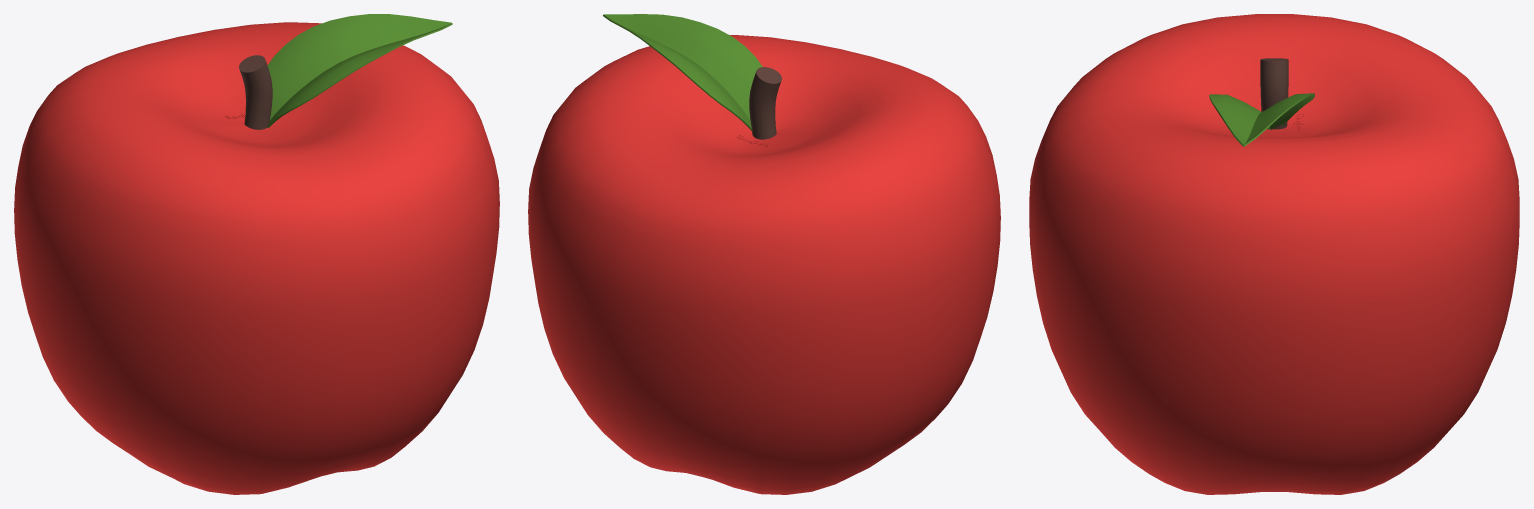
Rendered from red_apple.fbx.
The picture shows the model from 3 angles, left to right: view 1: azimuth 30°, elevation 25°; view 2: azimuth 150°, elevation 25°; view 3: azimuth 270°, elevation 25°; orthographic projection. The views are drawn at different scales.
Parts seen in each view (by area): view 1: Sphere.008; view 2: Sphere.008; view 3: Sphere.008.
Part boxes in pixels (x1=…): Sphere.008: x1=14, y1=14, x2=499, y2=494; Sphere.008: x1=528, y1=14, x2=1000, y2=494; Sphere.008: x1=1029, y1=14, x2=1519, y2=494.
Bounding box in the file's own units: 212 × 192 × 210.
Materials: 1 (1 with a texture image).
